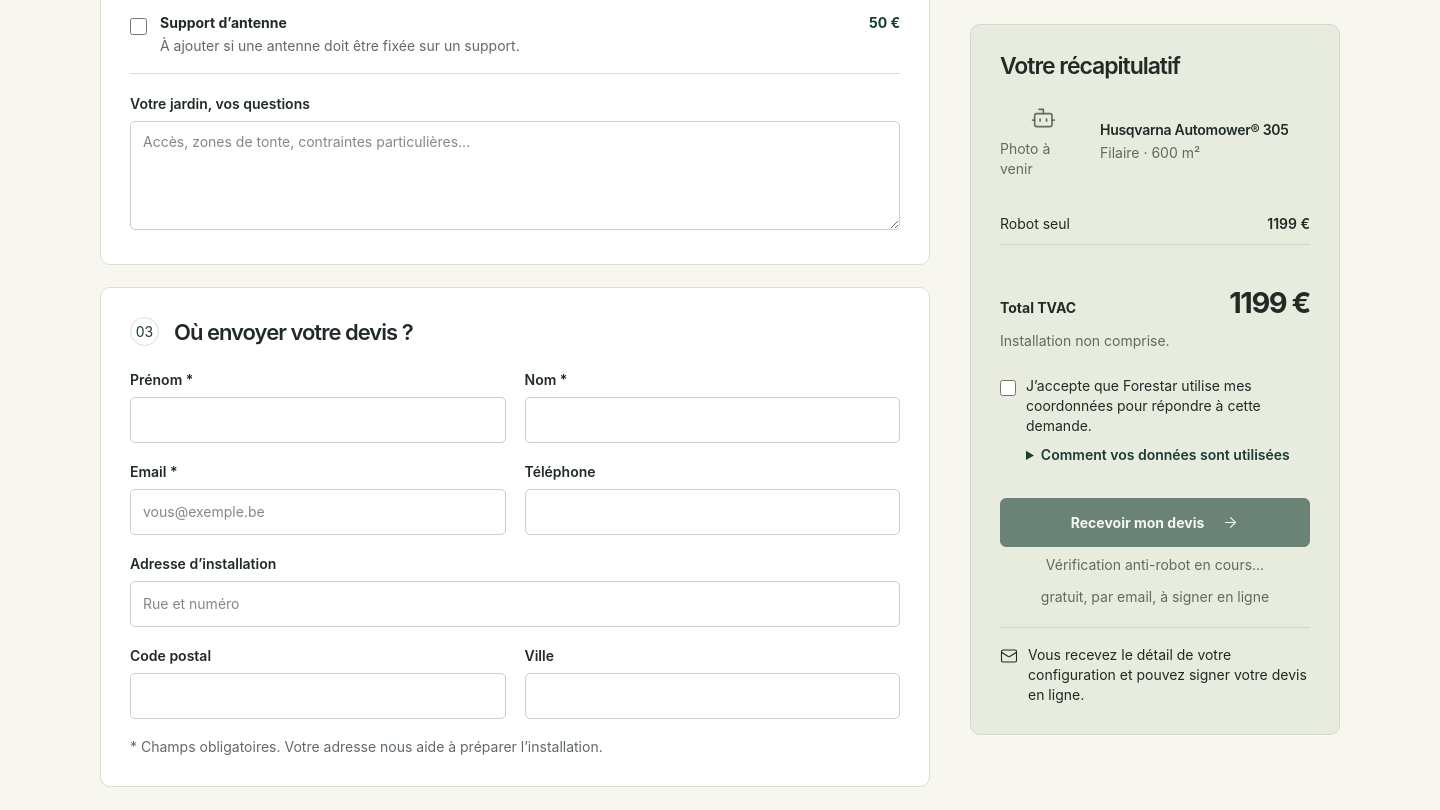
Scenario: formulaire de devis › une erreur du serveur s'affiche et ne compte aucun lead
This screenshot has width=1440, height=810.
(page scrolled)
Step 1. Type "Jean" into the field labelled "Prénom *" → (318, 420), box [130, 398, 506, 444]
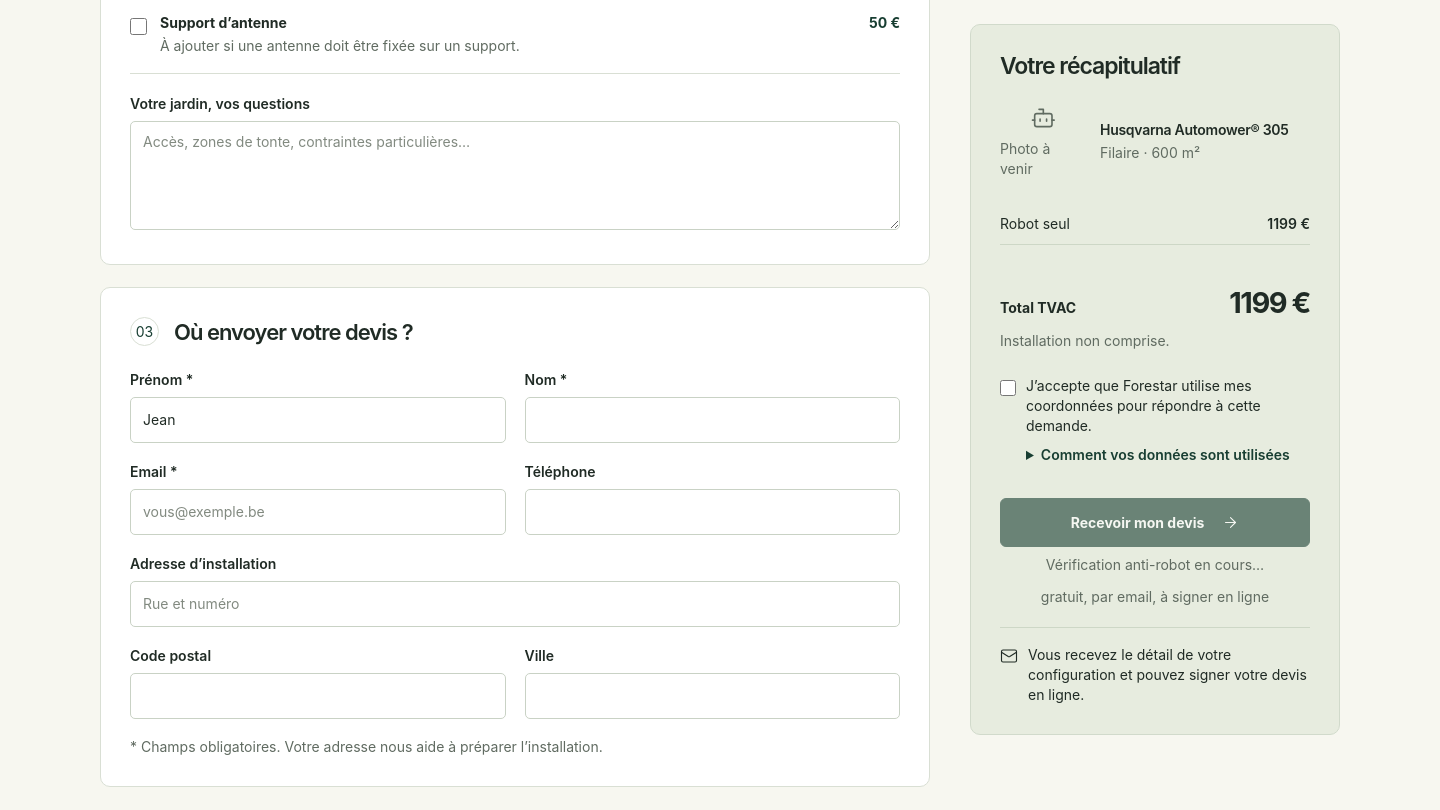
Step 2. Type "Dupont" into the field labelled "Nom *" → (712, 420), box [524, 398, 900, 444]
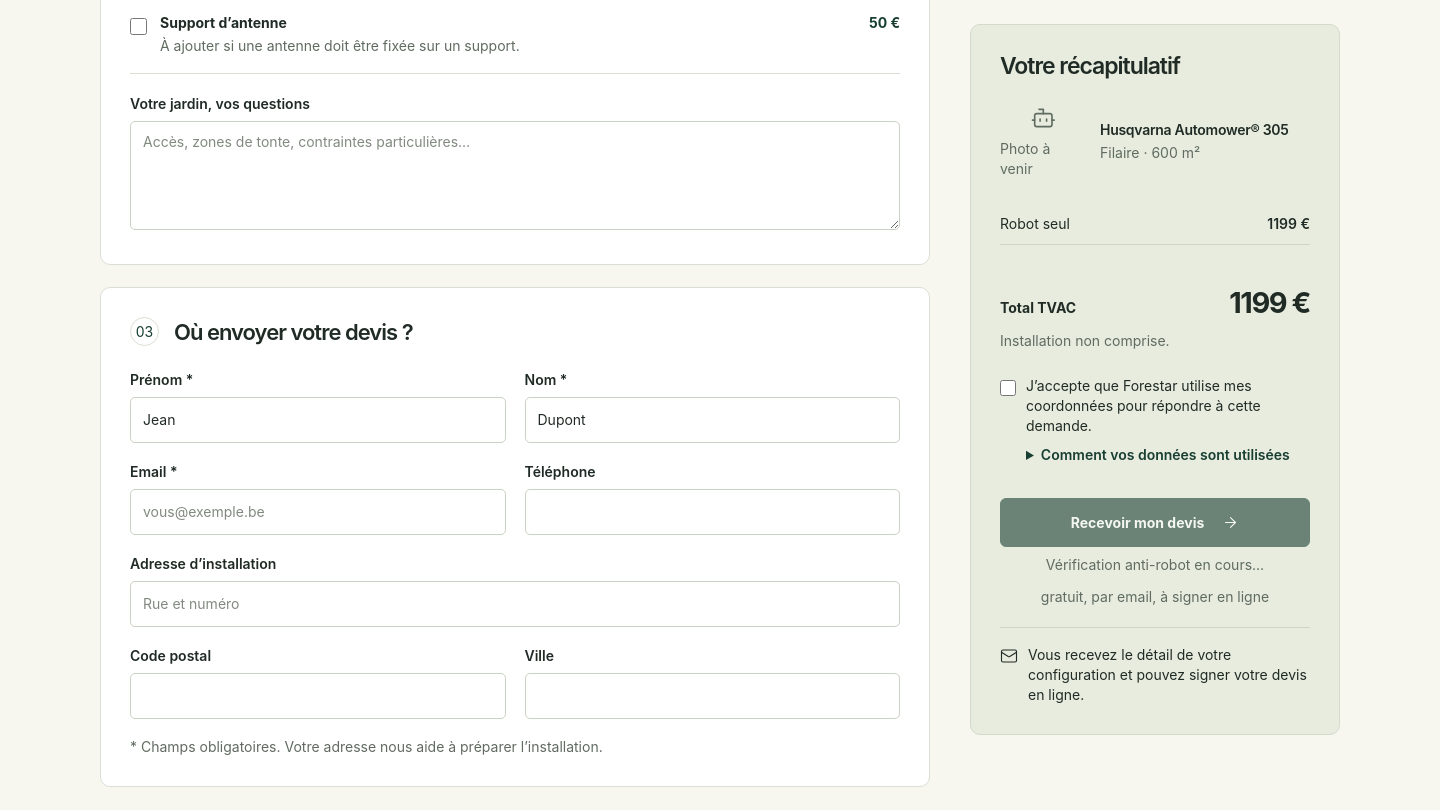
Step 3. Type "jean@example.test" into the field labelled "Email *" → (318, 512), box [130, 490, 506, 536]
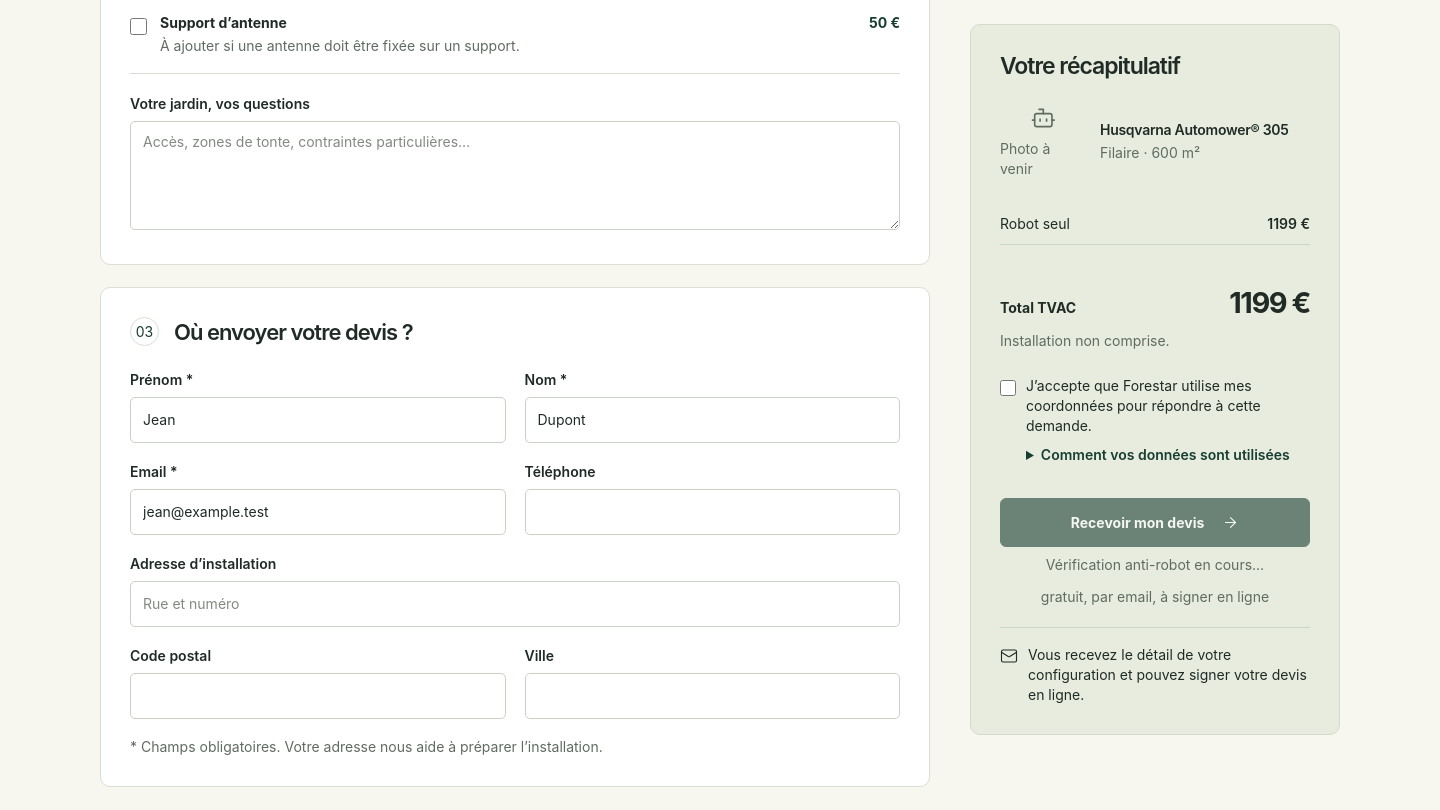
Step 4. Click the checkbox labelled "J’accepte que Forestar" → (1008, 387), box [1000, 379, 1016, 395]
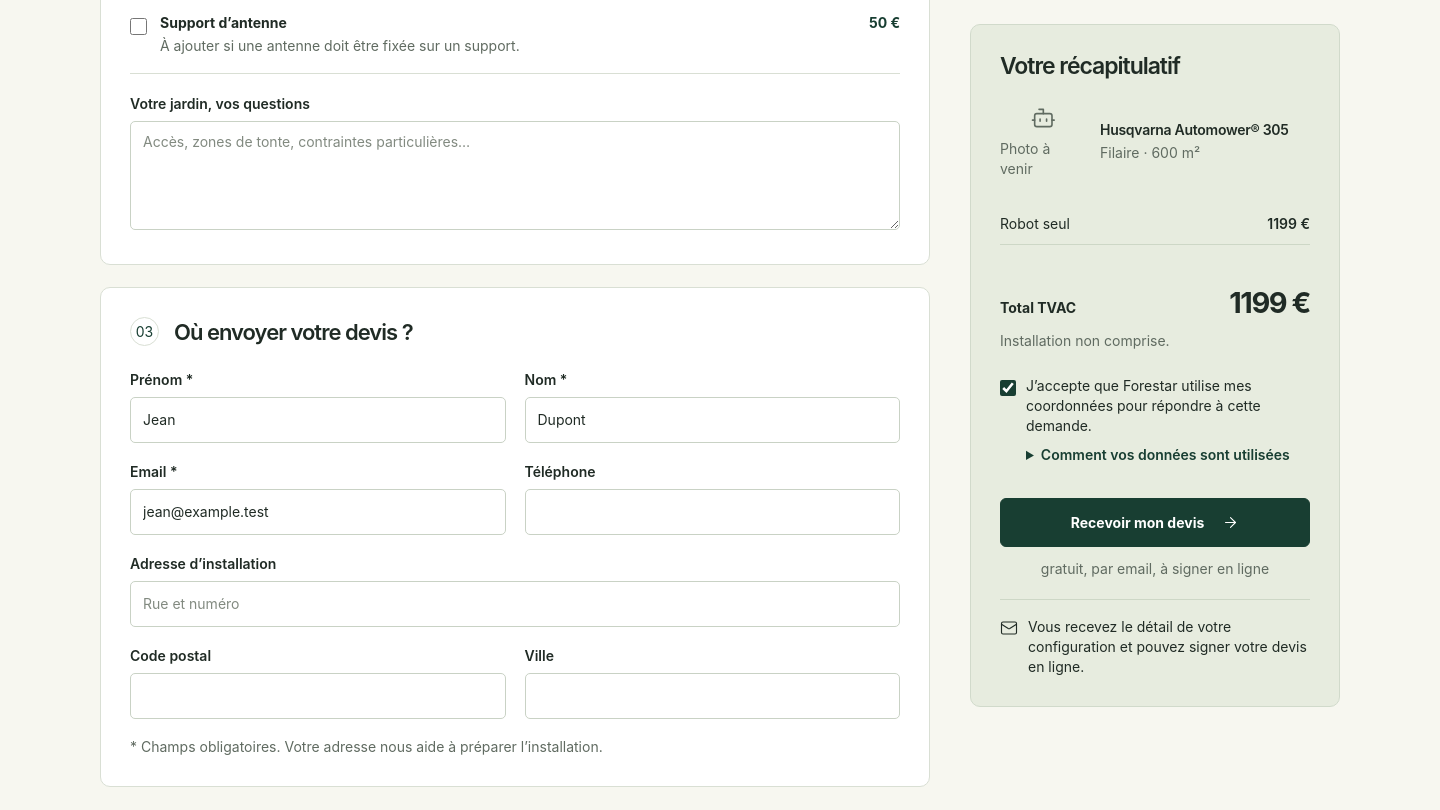
Expected: the button "Recevoir mon devis" is enabled
Step 5. Click the button "Recevoir mon devis" → (1155, 522), box [1000, 498, 1310, 547]
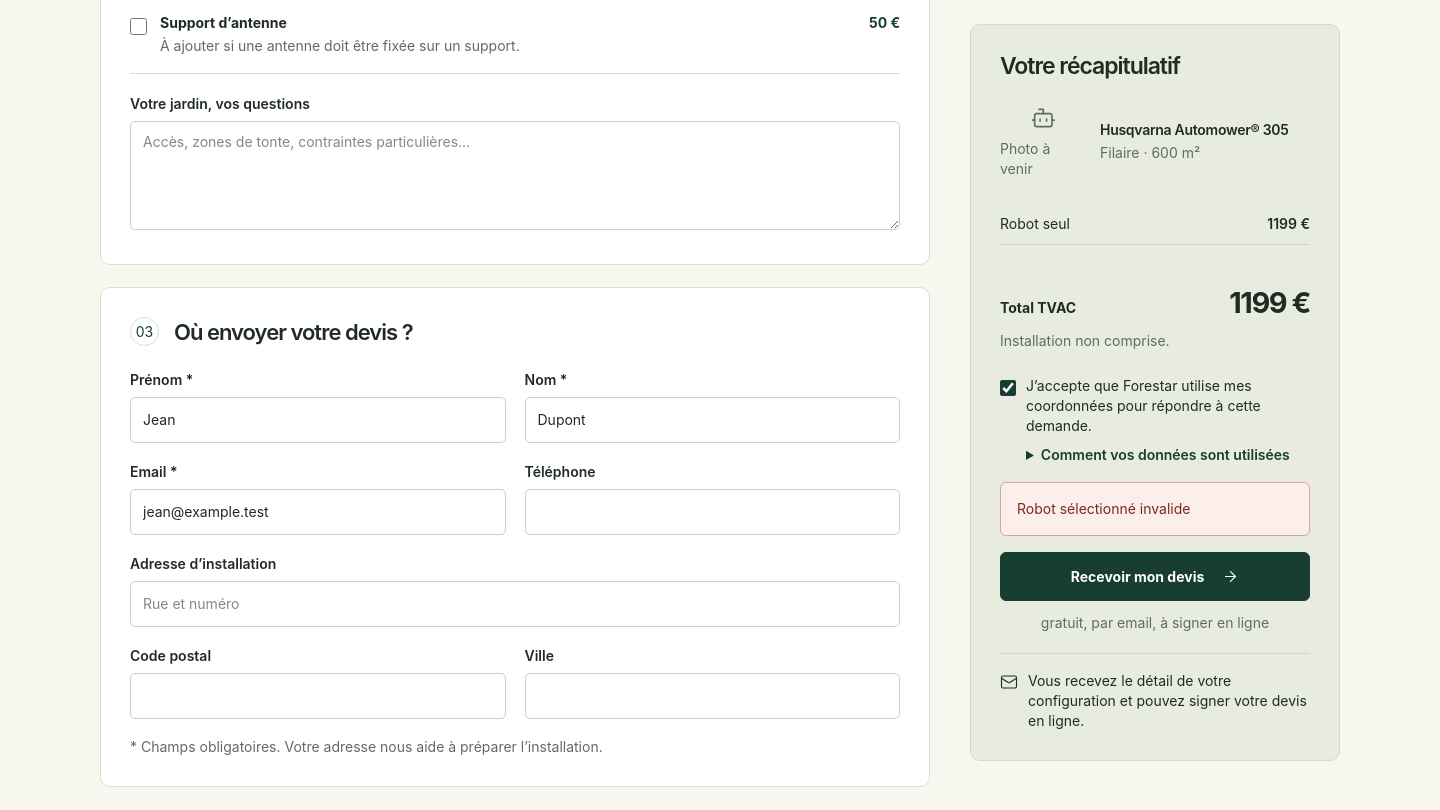
Expected: the message reads "Robot sélectionné invalide", [1017, 500, 1190, 517]
